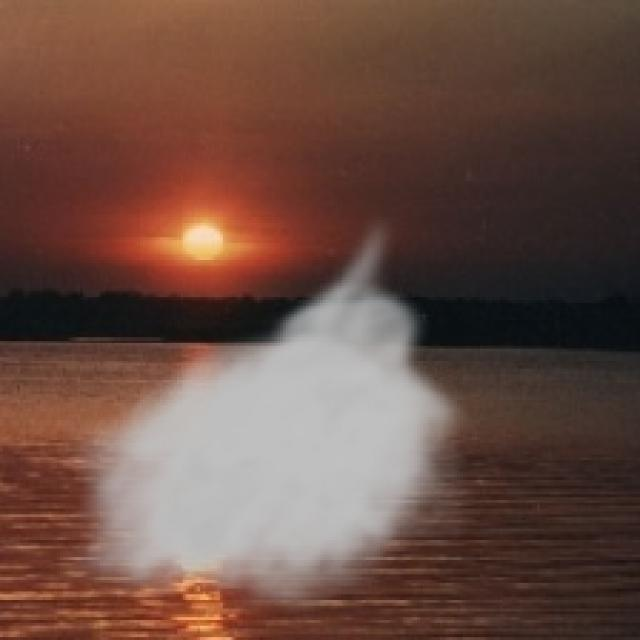smoke: (54, 212, 474, 614)
